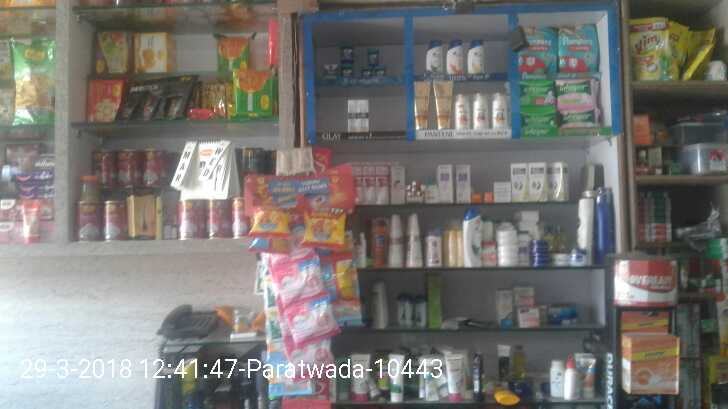vicks: (321, 40, 397, 79)
